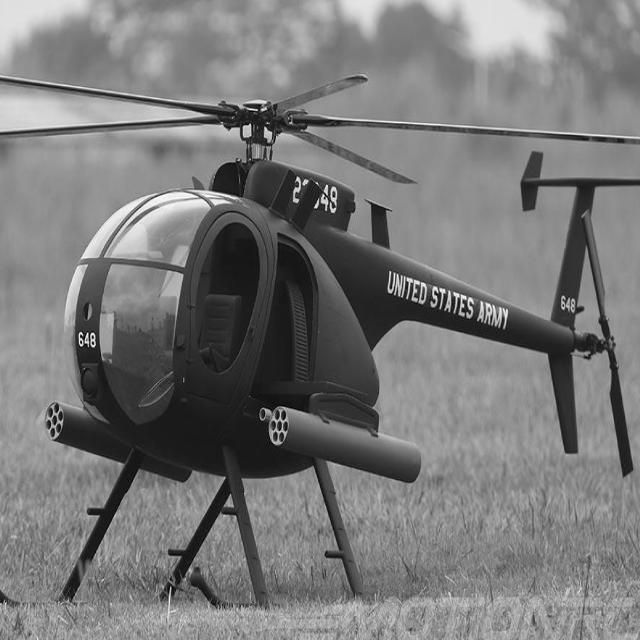helicopter: (1, 54, 640, 629)
